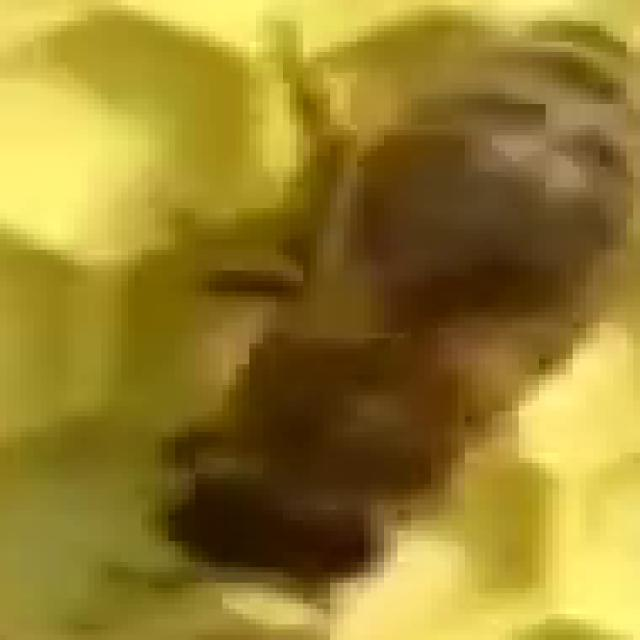honeybee: (171, 18, 635, 586)
